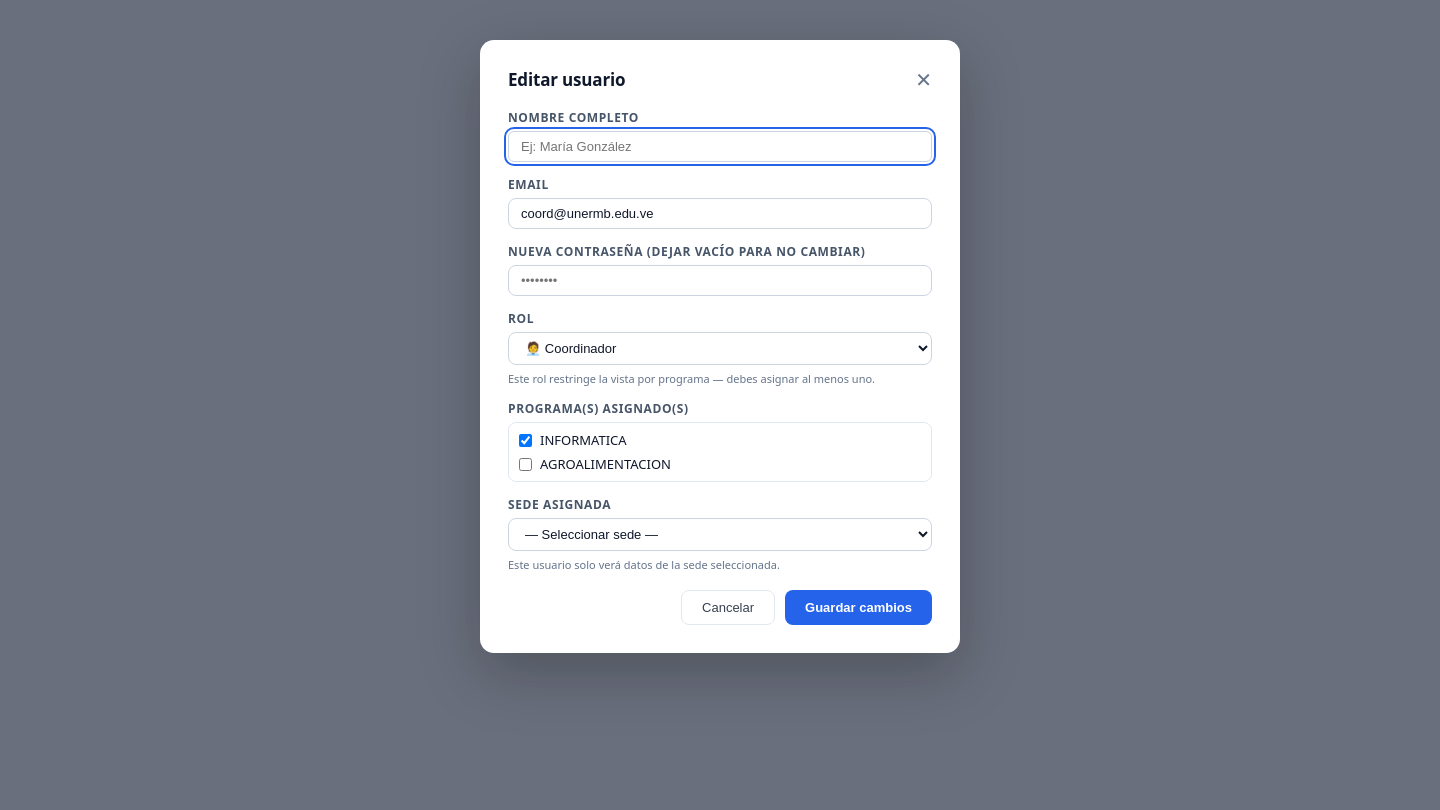
Test: ModalUsuario — UX-43: validación por campo, todos los errores de una vez › corregir un campo y volver a guardar limpia solo ese fieldError, no los demás pendientes
Click the button "Guardar cambios" at [859, 608], box [785,590,932,625]
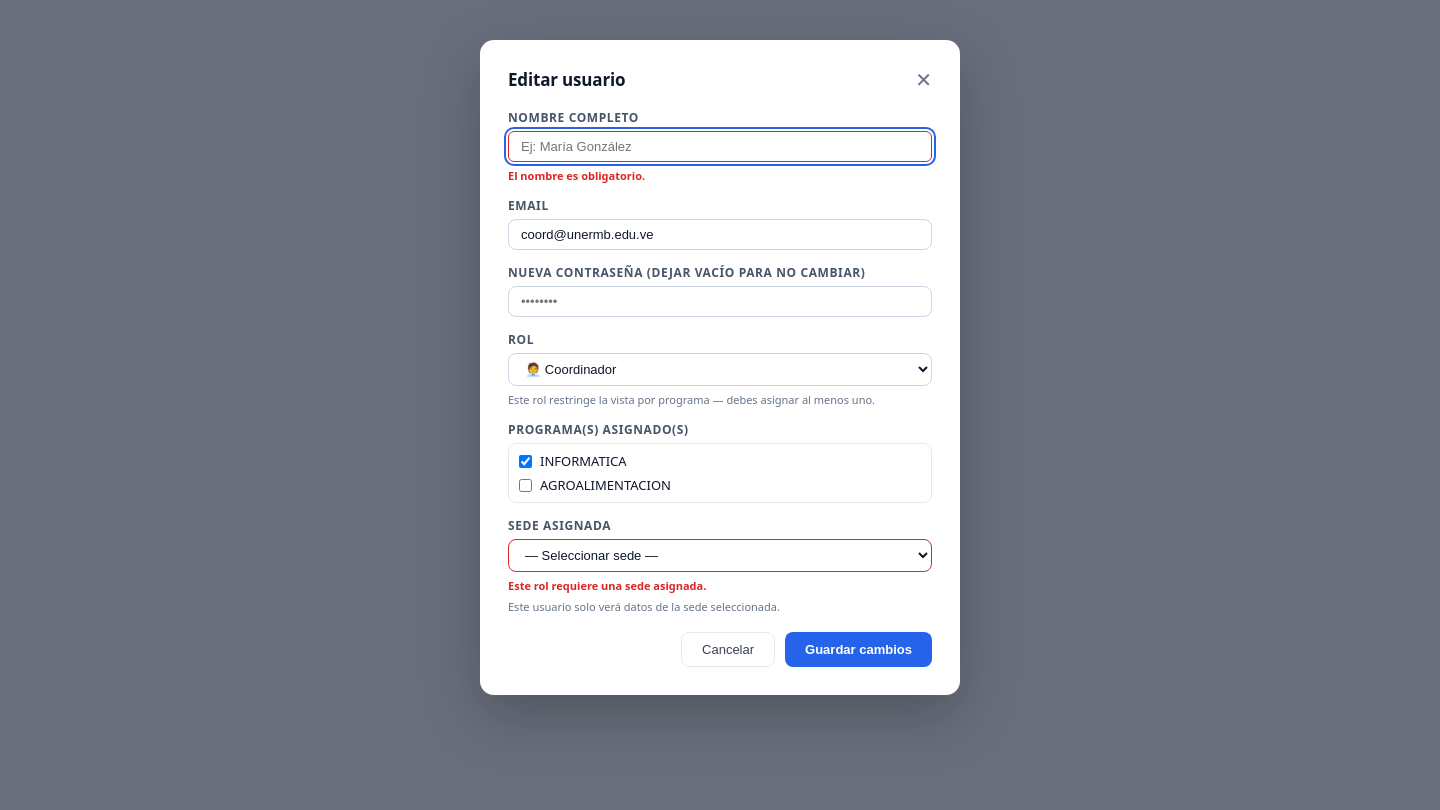
Now the text "El nombre es obligatorio." is shown, box [508,168,645,183]
Type "Nombre Corregido" into the field labelled "Nombre completo" at [720, 146], box [508,131,932,162]
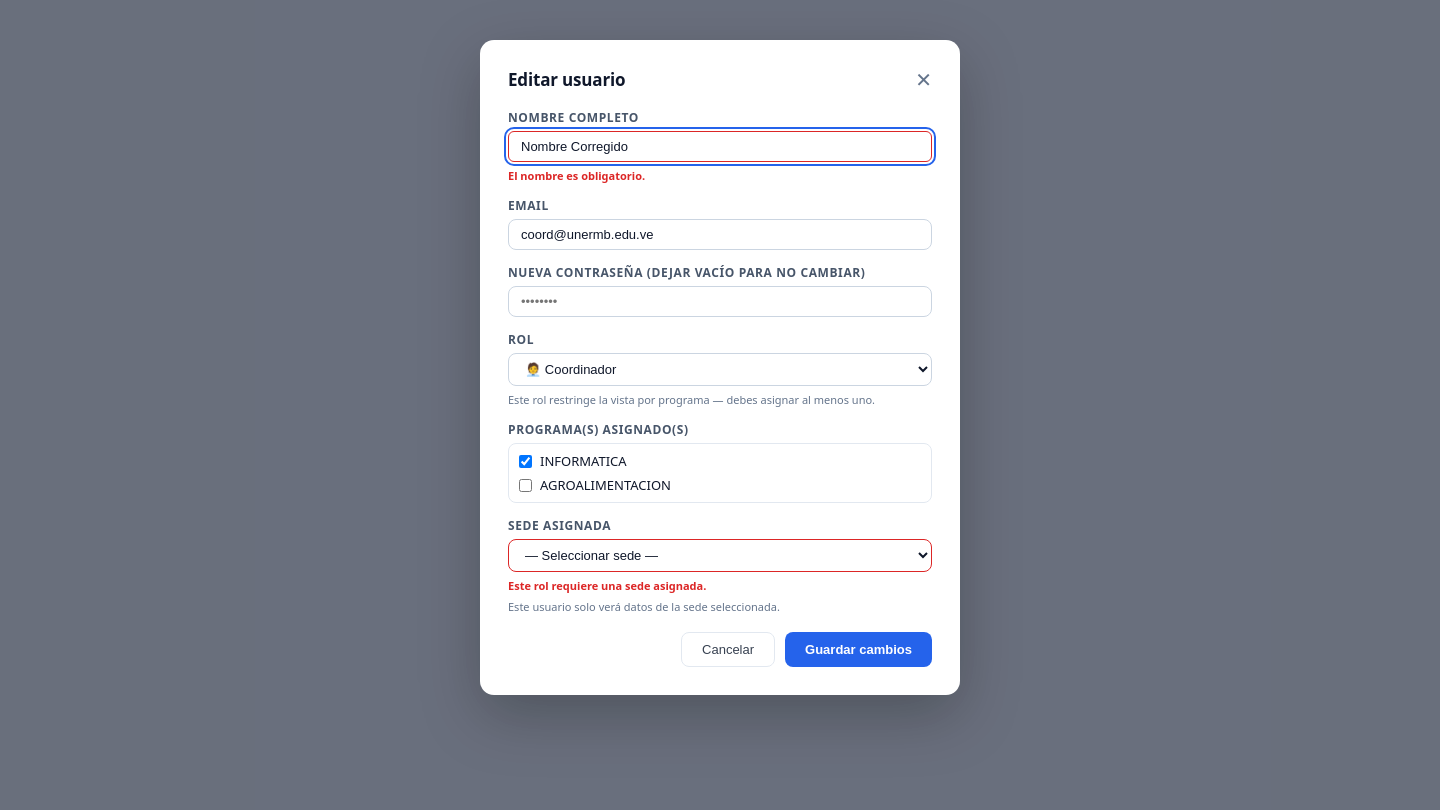
Click the button "Guardar cambios" at [859, 650], box [785,632,932,667]
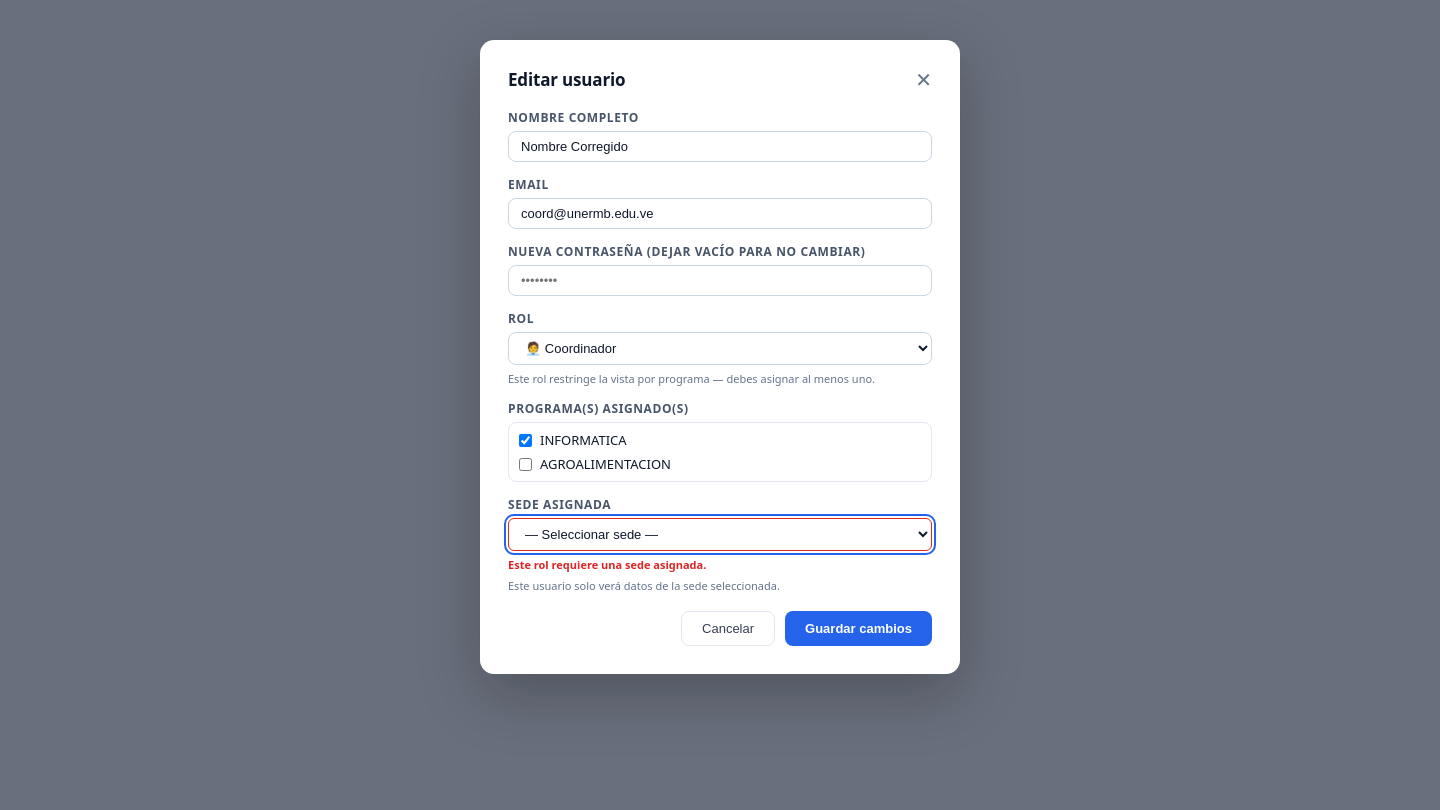
Now the text "Este rol requiere una sede asignada." is shown, box [508,557,706,572]
Now the text "El nombre es obligatorio." is gone
